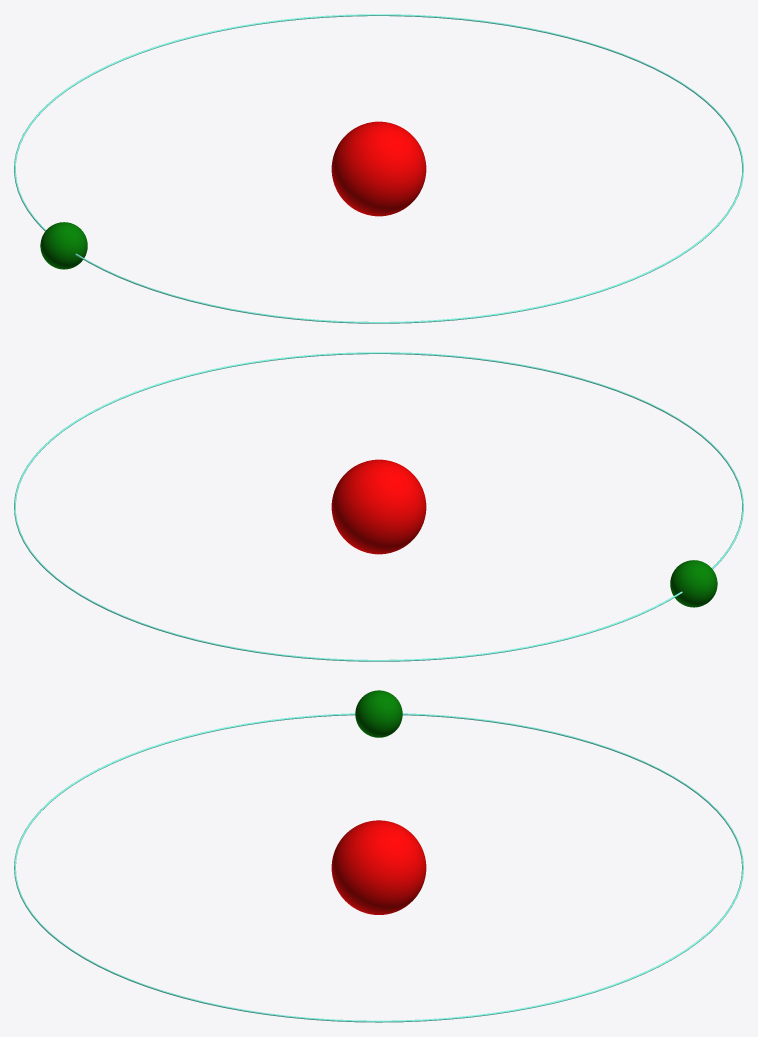
Rendered from Atomo de Hidrogeno.fbx.
3 renders of one model, top to bottom at view 1: azimuth 30°, elevation 25°; view 2: azimuth 150°, elevation 25°; view 3: azimuth 270°, elevation 25°, orthographic.
Visible parts, largest first — view 1: Esfera, Toroide, Esfera_1; view 2: Esfera, Toroide, Esfera_1; view 3: Esfera, Toroide, Esfera_1.
Part boxes in pixels (x1=…): Esfera: x1=331, y1=121, x2=426, y2=216; Toroide: x1=14, y1=14, x2=743, y2=323; Esfera_1: x1=40, y1=222, x2=87, y2=269; Esfera: x1=331, y1=459, x2=426, y2=554; Toroide: x1=14, y1=352, x2=743, y2=661; Esfera_1: x1=670, y1=560, x2=717, y2=607; Esfera: x1=331, y1=820, x2=426, y2=914; Toroide: x1=14, y1=713, x2=743, y2=1022; Esfera_1: x1=355, y1=690, x2=402, y2=737.
Size of the model in its own units: 1589 by 200 by 1542.
